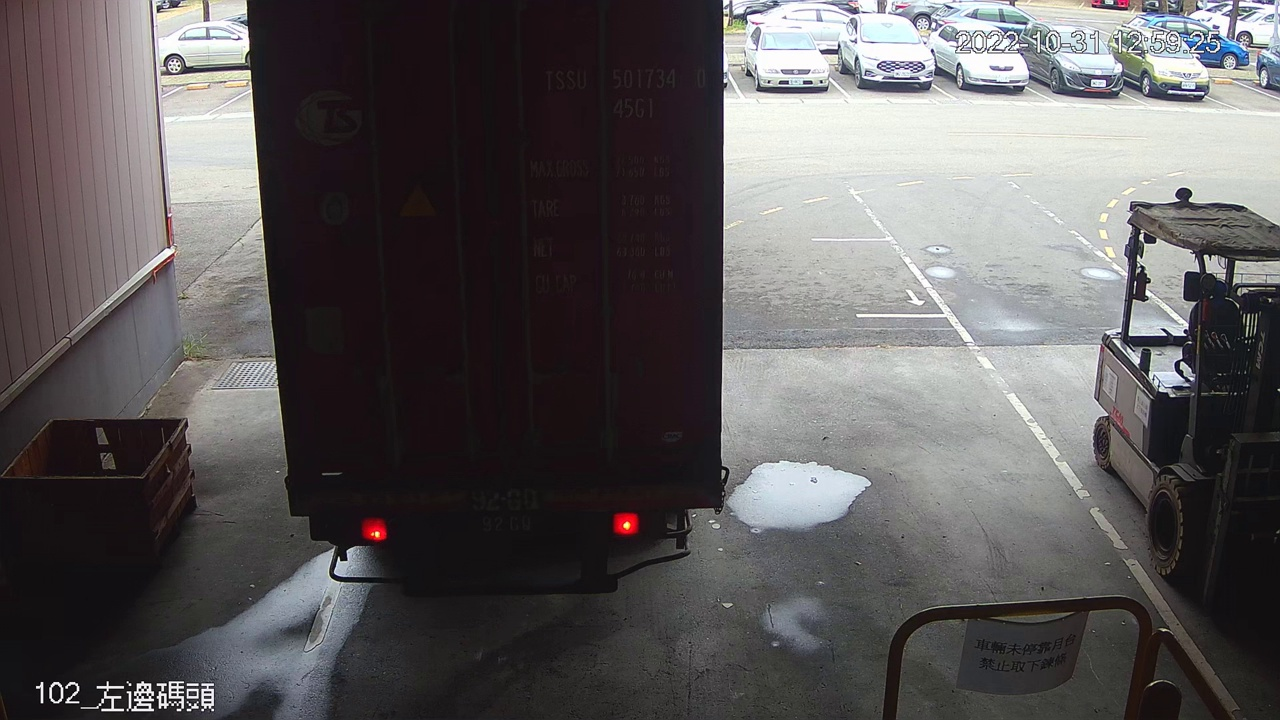container: (534, 60, 715, 124)
